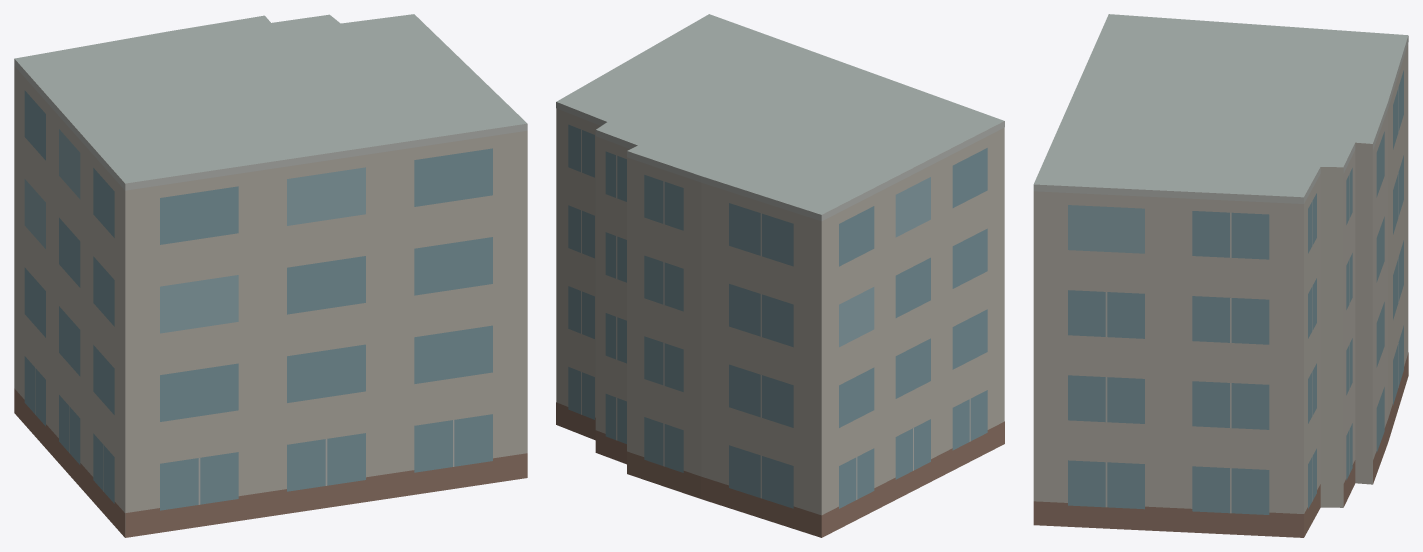
File: survey-upis-33008764.glb
3 renders of one model, left to right at view 1: azimuth 30°, elevation 25°; view 2: azimuth 150°, elevation 25°; view 3: azimuth 270°, elevation 25°, orthographic. The views are drawn at different scales.
Visible parts, largest first — view 1: survey-upis-33008764.tmp; view 2: survey-upis-33008764.tmp; view 3: survey-upis-33008764.tmp.
Boxes of the visible parts, box(x1,y1,x2,y2) form: survey-upis-33008764.tmp: box(14, 14, 527, 537); survey-upis-33008764.tmp: box(556, 14, 1004, 537); survey-upis-33008764.tmp: box(1033, 14, 1408, 537).
Bounding box in the file's own units: 14.09 × 12.2 × 12.18.
